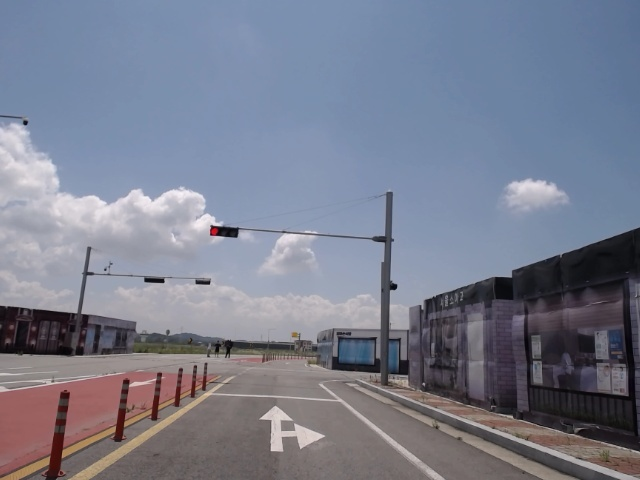red_3: (209, 225, 240, 239)
